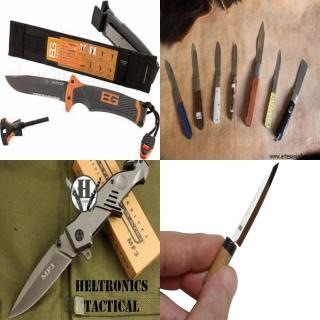knife: (205, 161, 280, 288), (5, 231, 73, 319), (4, 73, 69, 104), (163, 56, 183, 106), (251, 17, 266, 81), (190, 39, 202, 97), (212, 40, 222, 92), (271, 46, 282, 92), (230, 41, 238, 89)
